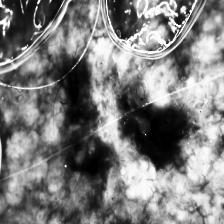Potentially Malignant Skin Tumors: (122, 104, 169, 156), (51, 72, 91, 122)
